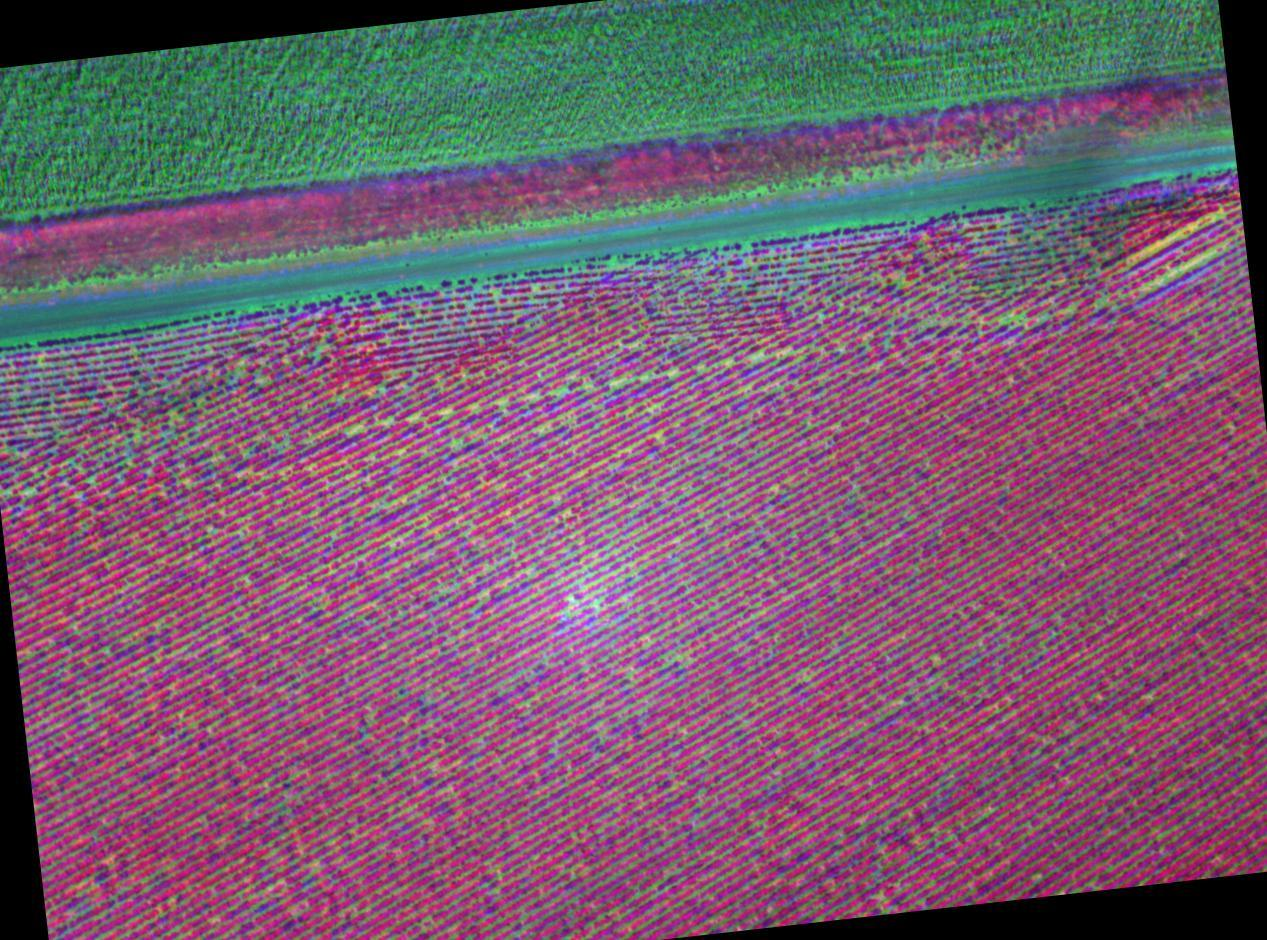dc: (1002, 315, 1008, 321), (670, 370, 676, 376), (755, 353, 760, 359), (560, 389, 566, 394), (1177, 268, 1182, 273)
